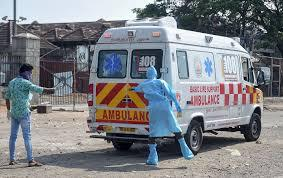ER: (89, 16, 264, 155)
